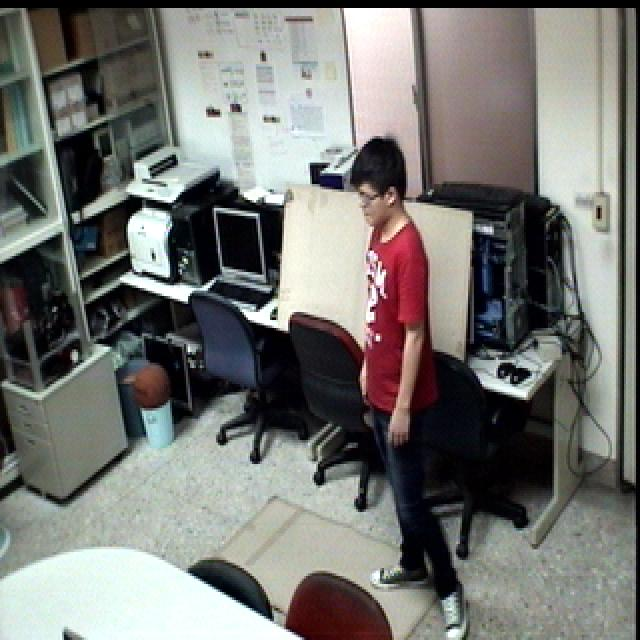stand: (335, 125, 472, 640)
